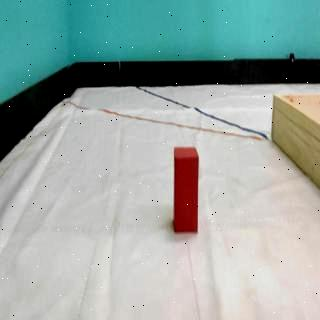redbox: (174, 148, 198, 232)
